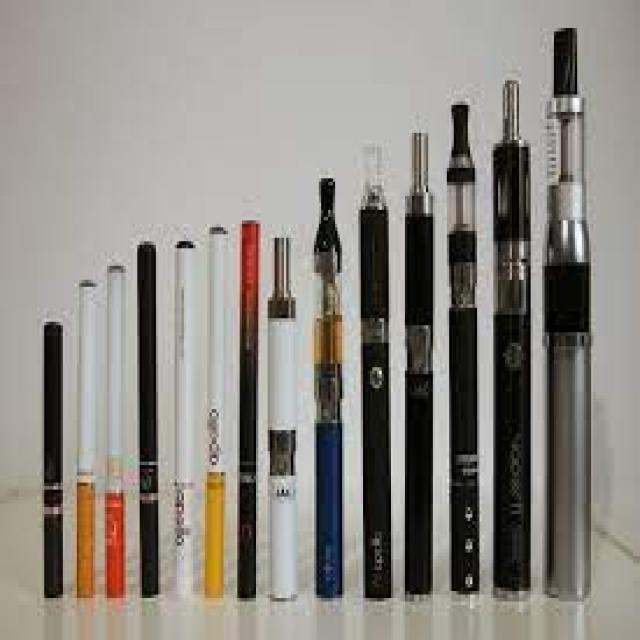Cigarette: (543, 29, 593, 603), (492, 79, 530, 600), (447, 105, 480, 604), (358, 148, 392, 599), (404, 131, 434, 601), (315, 180, 343, 599), (267, 238, 296, 597), (135, 239, 160, 598), (208, 222, 226, 599), (240, 221, 258, 595), (174, 237, 192, 596), (41, 322, 64, 596), (107, 264, 126, 592), (78, 280, 95, 594)
